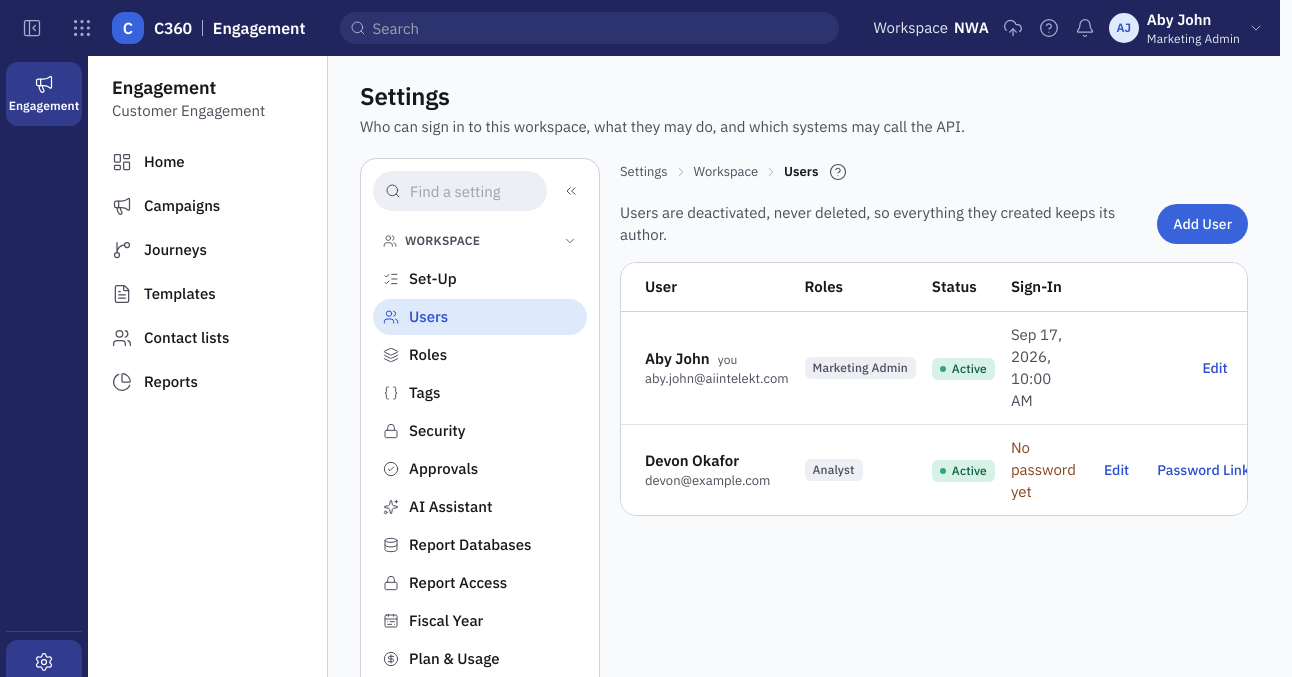
Test: Recent lists the pages visited here, newest first, three at most; a group folds and stays folded; the panel folds to icons
The image size is (1292, 677).
Expected: the table named "Users" is shown, [621,263,1248,514]
Click the link "Roles" at (415,354), box [383,345,447,364]
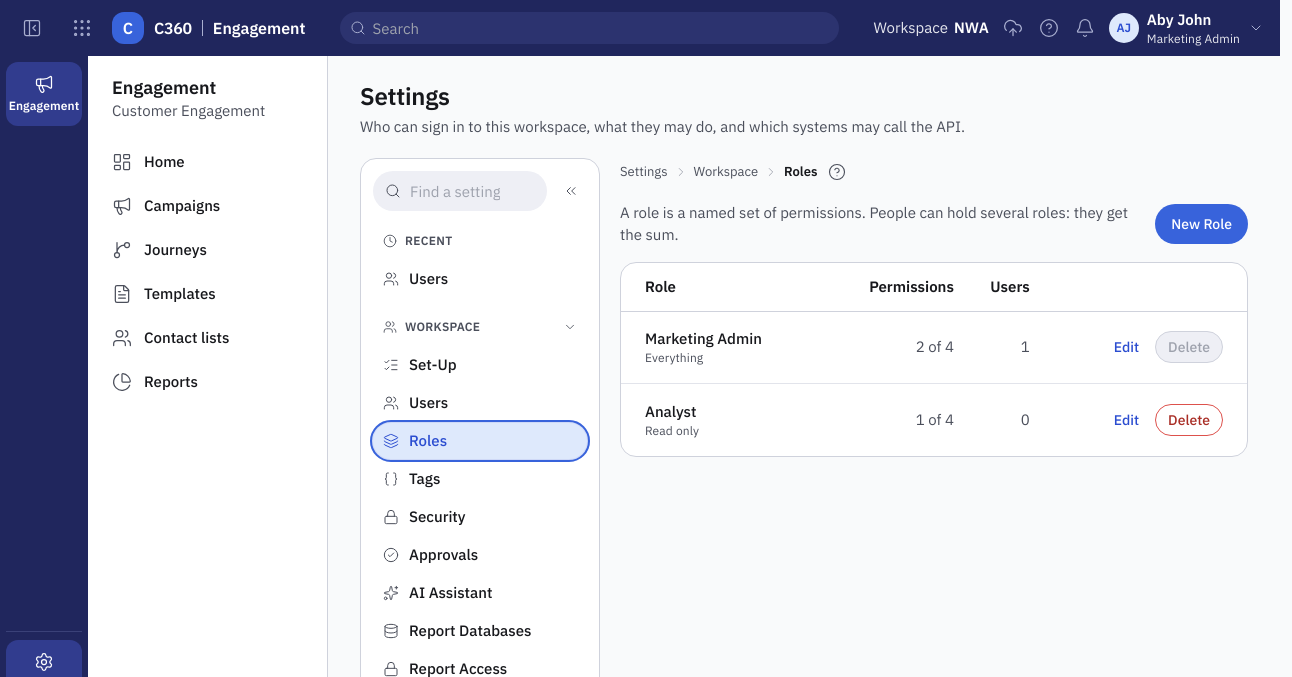
Click the link "Security" at (424,516), box [383,507,466,526]
(page scrolled)
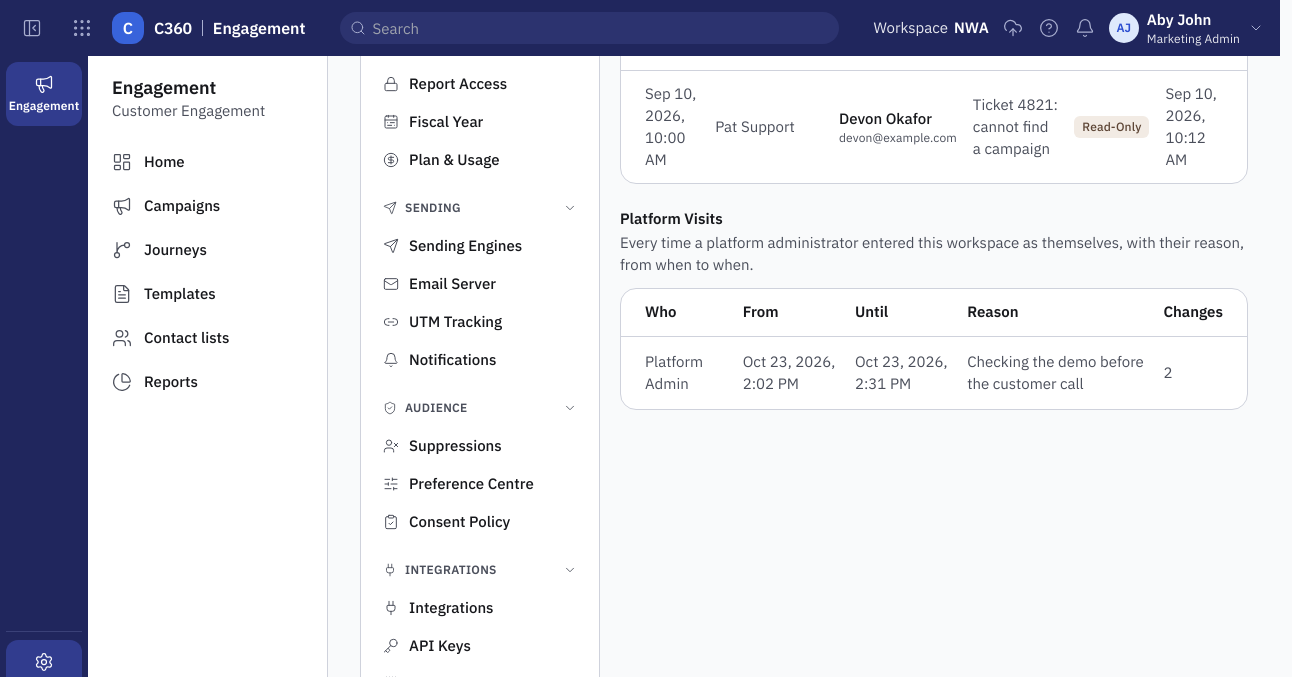
Click the link "Notifications" at (440,360), box [383,350,496,369]
(page scrolled)
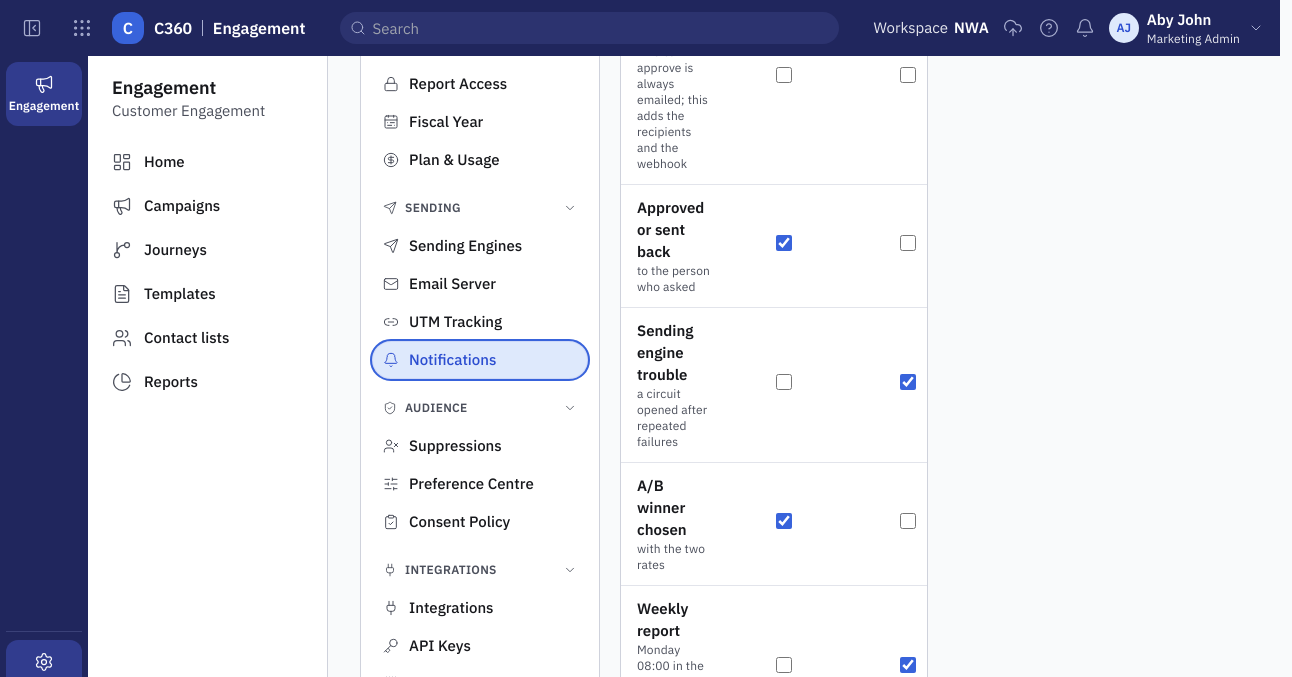
Click the button "Audience" at (480,408), box [373,390,587,426]
(page scrolled)
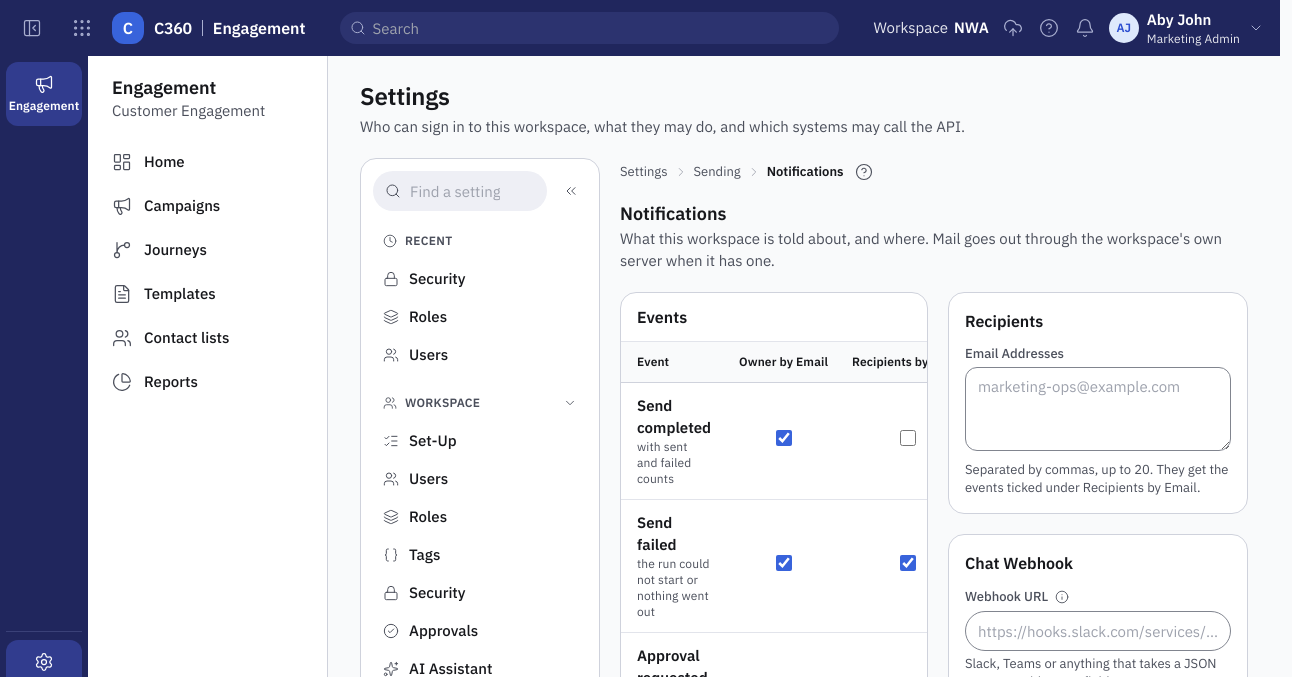
Result: the link "Suppressions" is gone
Click the button named "Collapse the settings menu" at (571,191), box [555,175,587,207]
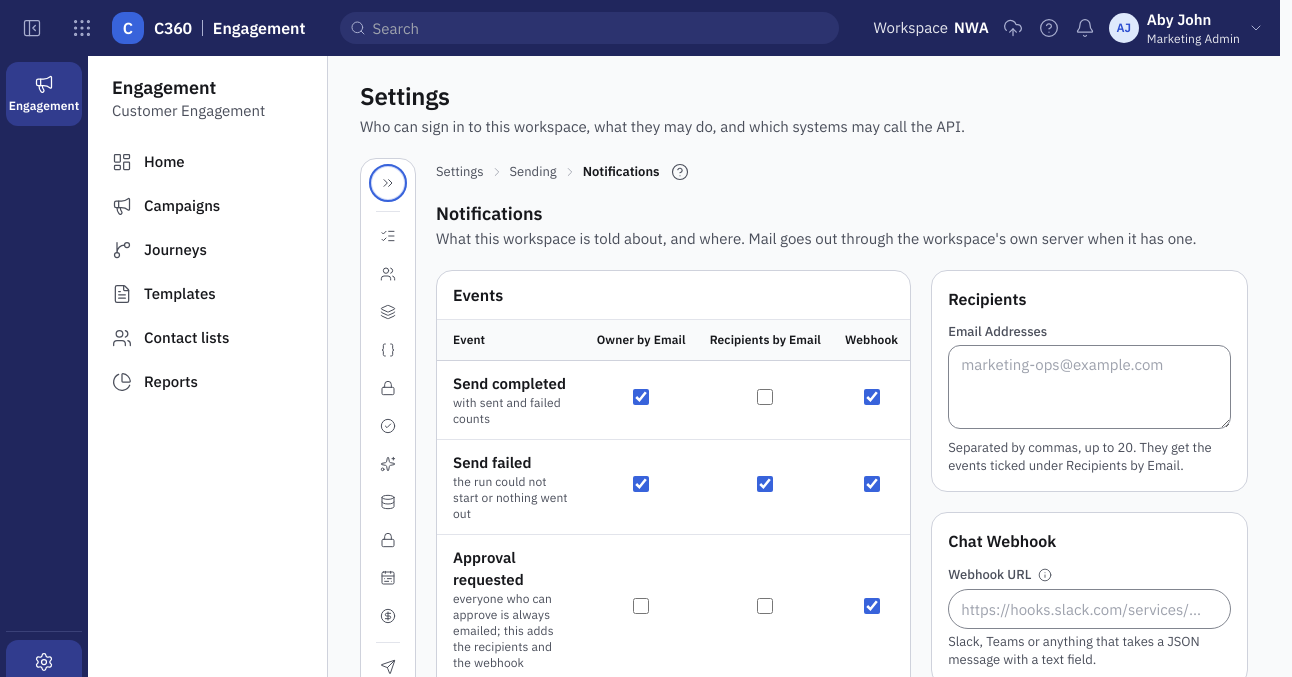
Click the button named "Expand the settings menu" at (388,183), box [372,167,404,199]
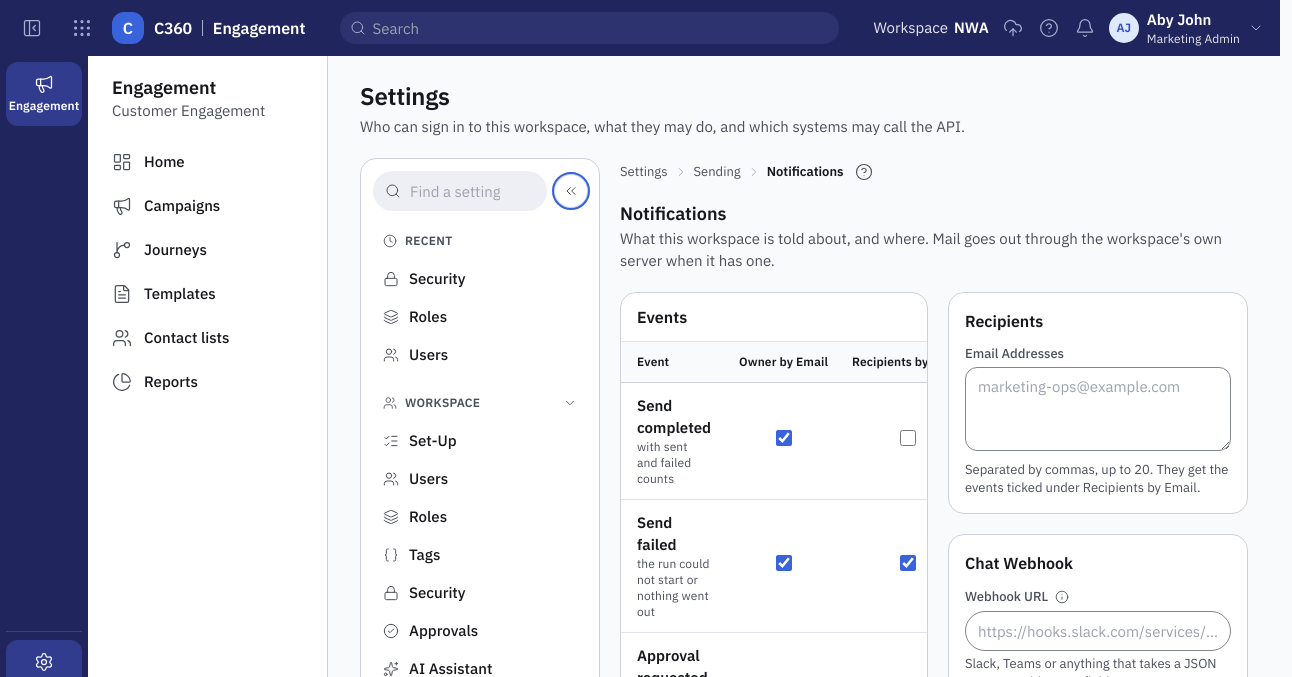
Result: the search field labelled "Find a setting" is shown at [373,171,547,211]
